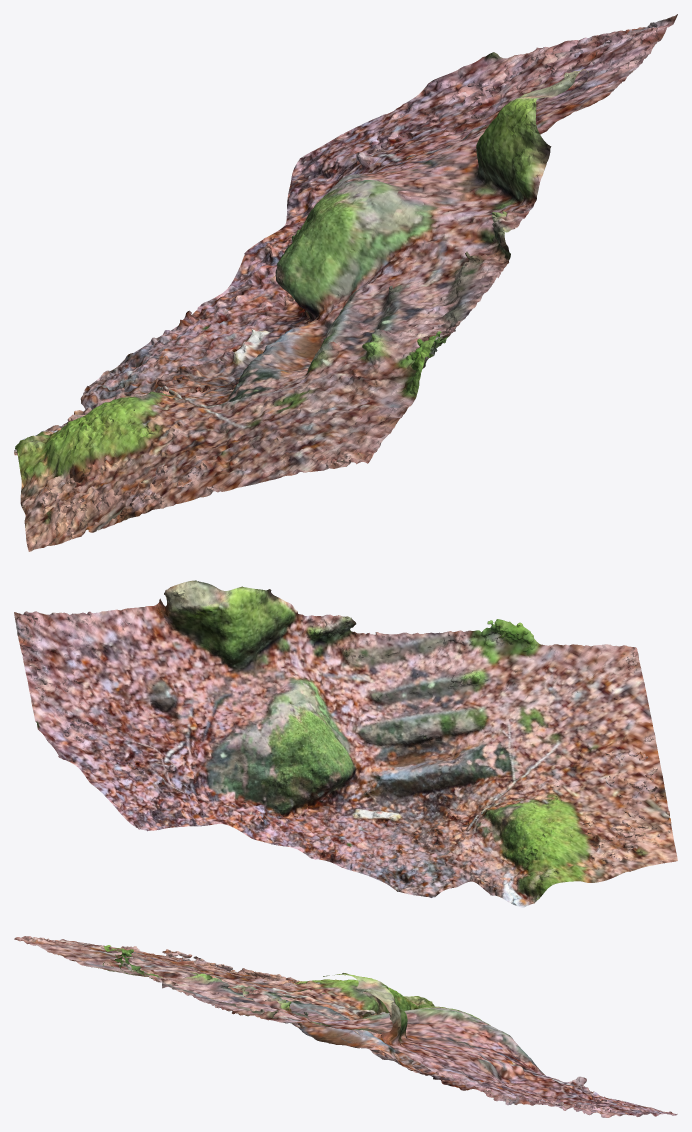
Rendered from S049_ForestStairs.glb.
3 views of the same model, one above another, from view 1: azimuth 30°, elevation 25°; view 2: azimuth 150°, elevation 25°; view 3: azimuth 270°, elevation 25° (orthographic). The views are drawn at different scales.
Size of the model in its own units: 4.34 by 1.53 by 3.63.
Materials: 1 (1 with a texture image).
